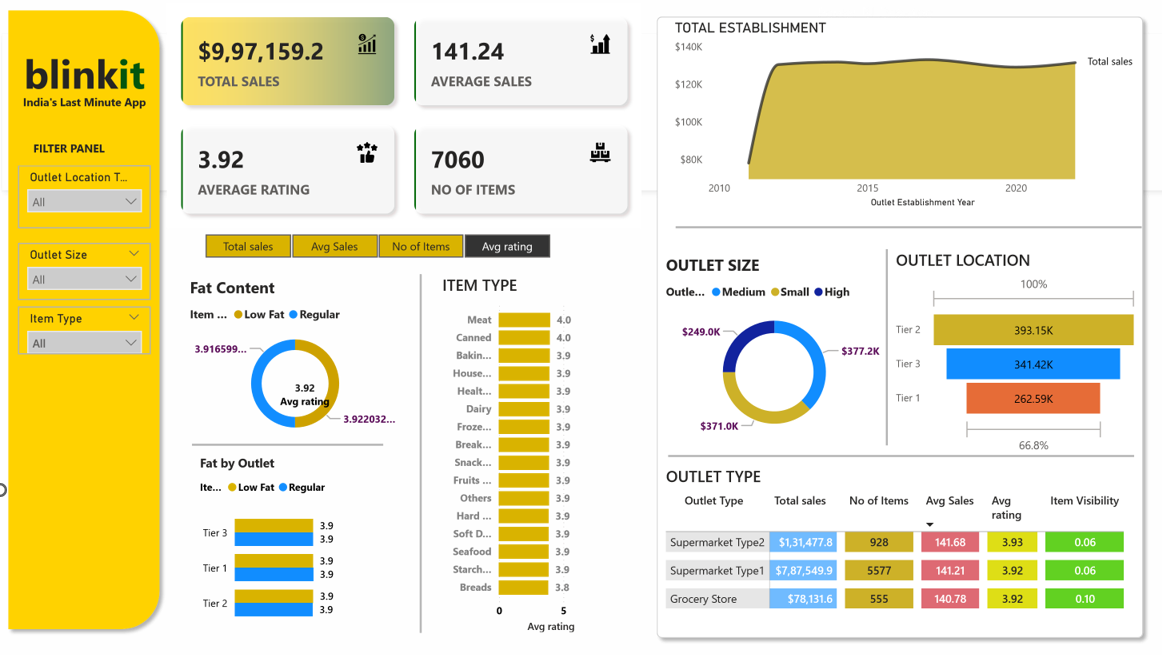

What the dashboard file says about the page in this screenshot:
{"tool":"powerbi","page":{"name":"Page 1","canvas":[1400,800],"ordinal":0},"visuals":[{"type":"shape","box":[0,15,199.6,760.9],"z":0},{"type":"textbox","box":[260,696,614,54],"z":1000},{"type":"textbox","box":[13.5,60,174.1,90.1],"z":2000},{"type":"textbox","box":[14,120,174,30],"z":3000},{"type":"cardVisual","fields":{"Data":["BlinkIT Grocery Data.Total sales","BlinkIT Grocery Data.Avg Sales","BlinkIT Grocery Data.Avg rating","BlinkIT Grocery Data.No of Items"]},"box":[200,15.7,570,270],"z":4000},{"type":"shape","box":[778.9,22.5,601.8,763.9],"z":5000},{"type":"donutChart","title":" Fat Content","fields":{"Y":["BlinkIT Grocery Data.Avg rating"],"Category":["BlinkIT Grocery Data.Item Fat Content"]},"box":[222.1,343.7,262.7,202.6],"z":6000},{"type":"slicer","fields":{"Values":["Matrics.Matrics"]},"box":[219.8,285.5,465.1,40.2],"z":7000},{"type":"cardVisual","fields":{"Data":["BlinkIT Grocery Data.Avg rating"]},"box":[315.2,451.8,100.6,55.5],"z":8000},{"type":"clusteredBarChart","title":"Fat by Outlet","fields":{"Y":["BlinkIT Grocery Data.Avg rating"],"Series":["BlinkIT Grocery Data.Item Fat Content"],"Category":["BlinkIT Grocery Data.Outlet Location Type"]},"box":[234.6,556.3,218.5,218.5],"z":9000},{"type":"barChart","title":"ITEM TYPE","fields":{"Y":["BlinkIT Grocery Data.Avg rating"],"Category":["BlinkIT Grocery Data.Item Type"]},"box":[525.3,340.7,207.1,435.3],"z":10000},{"type":"shape","box":[498.3,340.7,12,430.7],"z":11000},{"type":"shape","box":[229.6,526.8,229.6,37.5],"z":12000},{"type":"lineChart","title":"TOTAL ESTABLISHMENT","fields":{"Y":["BlinkIT Grocery Data.Total sales"],"Category":["BlinkIT Grocery Data.Outlet Establishment Year"]},"box":[804.5,34.5,565.8,231.1],"z":13000},{"type":"shape","box":[810.5,265.7,559.8,37.5],"z":14000},{"type":"donutChart","title":"OUTLET SIZE","fields":{"Y":["BlinkIT Grocery Data.Total sales"],"Category":["BlinkIT Grocery Data.Outlet Size"]},"box":[794,316.7,270.2,229.6],"z":15000},{"type":"shape","box":[974.1,310.7,180.1,235.6],"z":16000},{"type":"funnel","title":"OUTLET LOCATION","fields":{"Y":["Sum(BlinkIT Grocery Data.Sales)"],"Category":["BlinkIT Grocery Data.Outlet Location Type"]},"box":[1070.1,310.7,300.2,250.6],"z":17000},{"type":"pivotTable","title":"OUTLET TYPE","fields":{"Rows":["BlinkIT Grocery Data.Outlet Type"],"Values":["BlinkIT Grocery Data.Total sales","BlinkIT Grocery Data.No of Items","BlinkIT Grocery Data.Avg Sales","BlinkIT Grocery Data.Avg rating","Avg(BlinkIT Grocery Data.Item Visibility)"]},"box":[794,570.3,570.3,193.6],"z":18000},{"type":"shape","box":[801.5,540.3,559.8,37.5],"z":19000},{"type":"slicer","fields":{"Values":["BlinkIT Grocery Data.Outlet Location Type"]},"box":[21,210.1,159.1,75],"z":19001},{"type":"slicer","fields":{"Values":["BlinkIT Grocery Data.Outlet Size"]},"box":[21,303.2,159.1,67.5],"z":19002},{"type":"slicer","fields":{"Values":["BlinkIT Grocery Data.Item Type"]},"box":[21,379.7,159.1,57],"z":19003},{"type":"textbox","box":[21,175.6,121.6,34.5],"z":19004}]}

Visuals, with their boxes in screenshot pixels (x1, y1, x2, y2), scaled from the page's 1400x800 canvas onto the 1162x655 screenshot:
shape: <region>0, 12, 166, 635</region>
textbox: <region>216, 570, 725, 614</region>
textbox: <region>11, 49, 156, 123</region>
textbox: <region>12, 98, 156, 123</region>
cardVisual - BlinkIT Grocery Data.Total sales x BlinkIT Grocery Data.Avg Sales: <region>166, 13, 639, 234</region>
shape: <region>646, 18, 1146, 644</region>
" Fat Content" donutChart: <region>184, 281, 402, 447</region>
slicer - Matrics.Matrics: <region>182, 234, 568, 267</region>
cardVisual - BlinkIT Grocery Data.Avg rating: <region>262, 370, 345, 415</region>
"Fat by Outlet" clusteredBarChart: <region>195, 455, 376, 634</region>
"ITEM TYPE" barChart: <region>436, 279, 608, 635</region>
shape: <region>414, 279, 424, 632</region>
shape: <region>191, 431, 381, 462</region>
"TOTAL ESTABLISHMENT" lineChart: <region>668, 28, 1137, 217</region>
shape: <region>673, 218, 1137, 248</region>
"OUTLET SIZE" donutChart: <region>659, 259, 883, 447</region>
shape: <region>809, 254, 958, 447</region>
"OUTLET LOCATION" funnel: <region>888, 254, 1137, 460</region>
"OUTLET TYPE" pivotTable: <region>659, 467, 1132, 625</region>
shape: <region>665, 442, 1130, 473</region>
slicer - BlinkIT Grocery Data.Outlet Location Type: <region>17, 172, 149, 233</region>
slicer - BlinkIT Grocery Data.Outlet Size: <region>17, 248, 149, 304</region>
slicer - BlinkIT Grocery Data.Item Type: <region>17, 311, 149, 358</region>
textbox: <region>17, 144, 118, 172</region>
